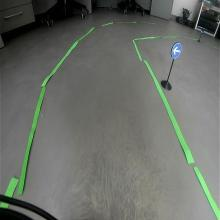left: (170, 42, 182, 58)
